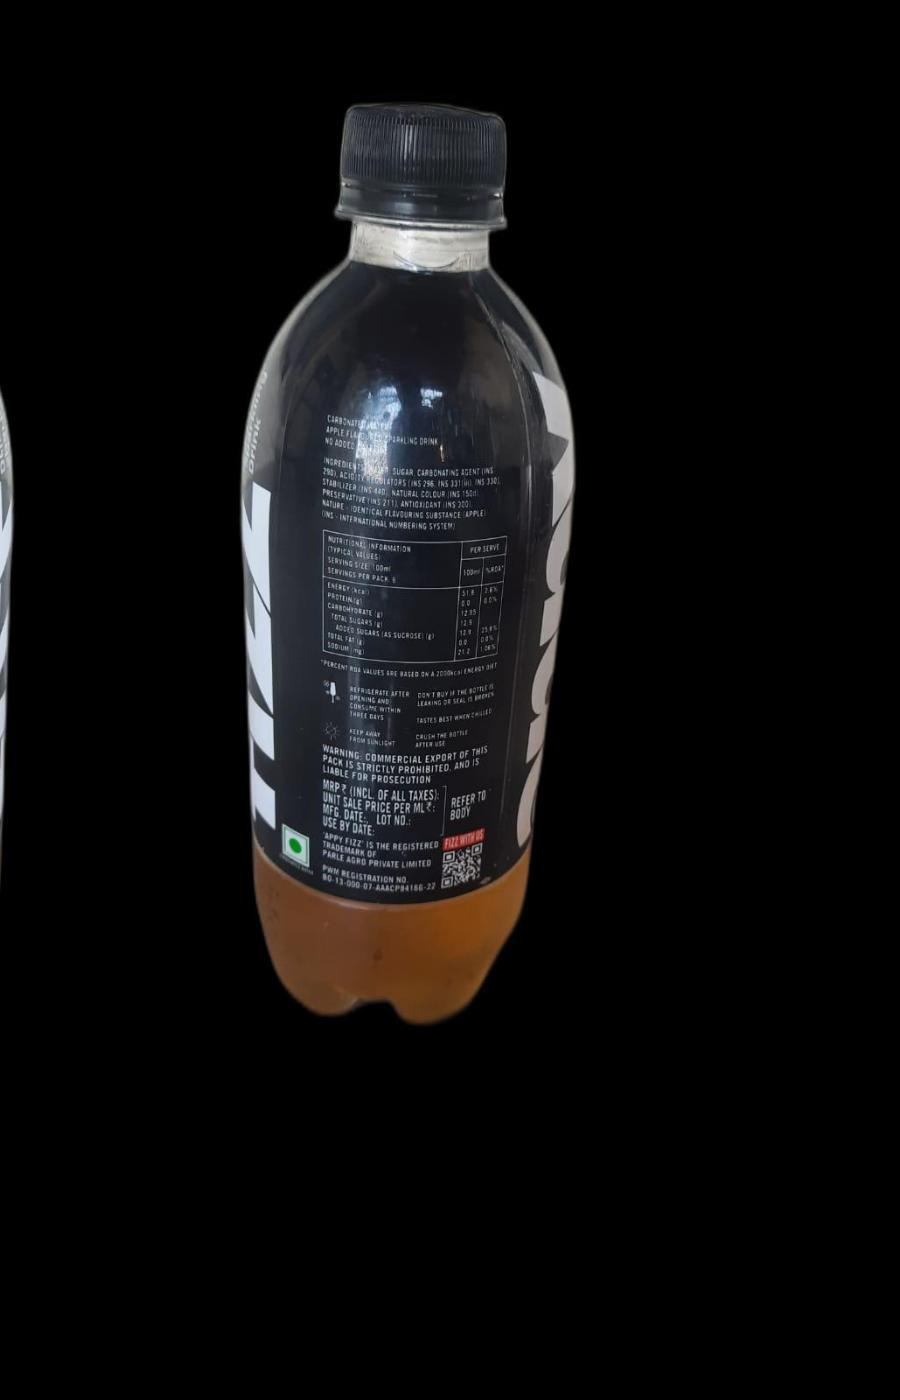Appy Fizz Apple Juice -250 ml-: (223, 91, 565, 1026)
